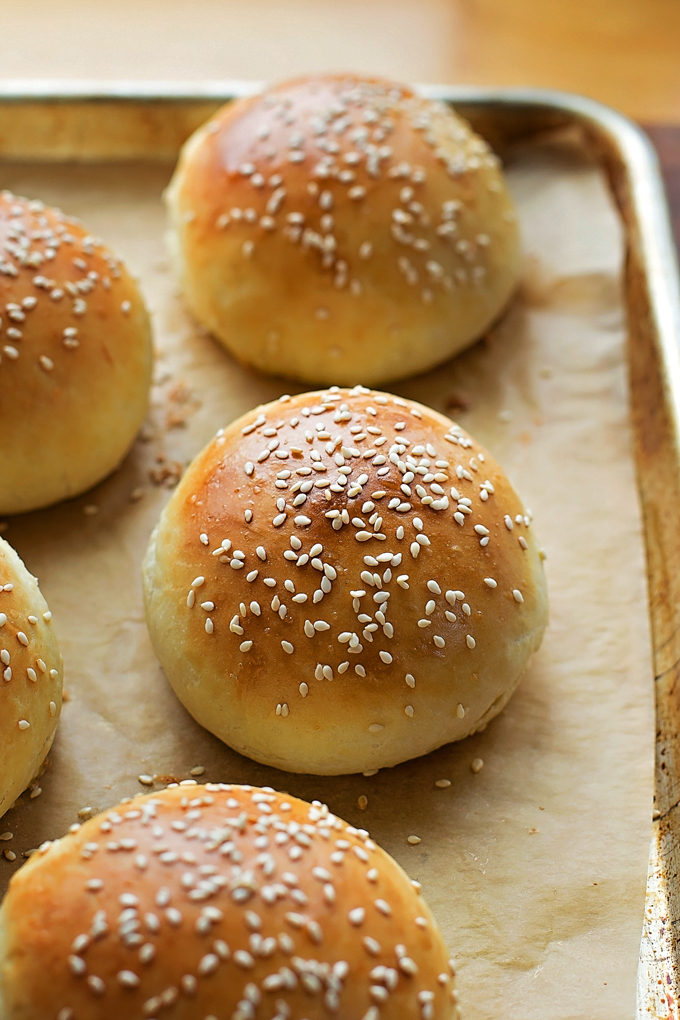hamburger_buns: (136, 376, 560, 777), (152, 68, 553, 381), (1, 778, 474, 1014)
